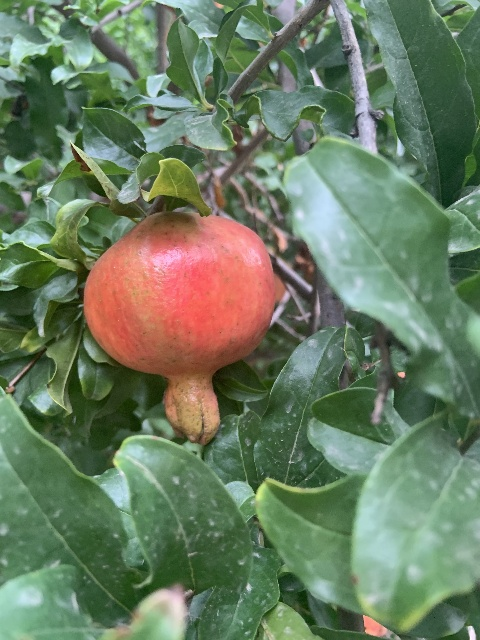ripe: (82, 211, 280, 442)
